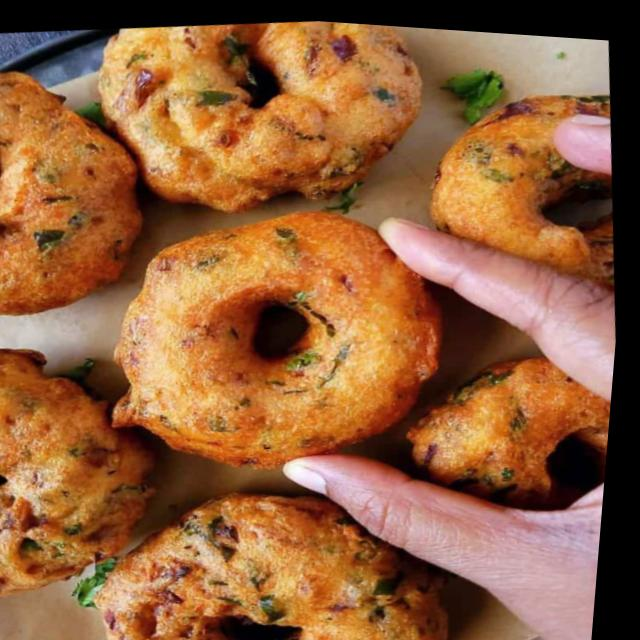VADA: (0, 20, 610, 640)
